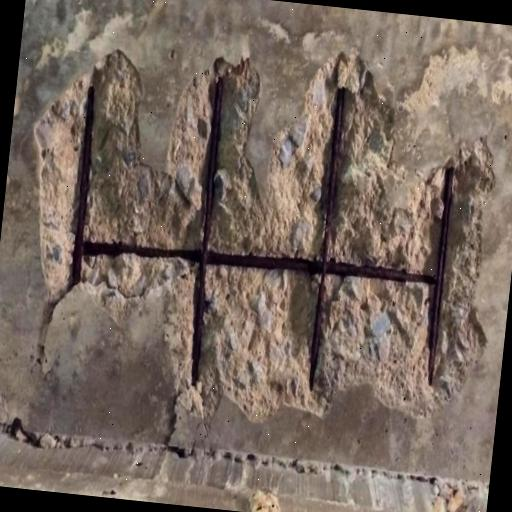spalling: (0, 24, 512, 463)
